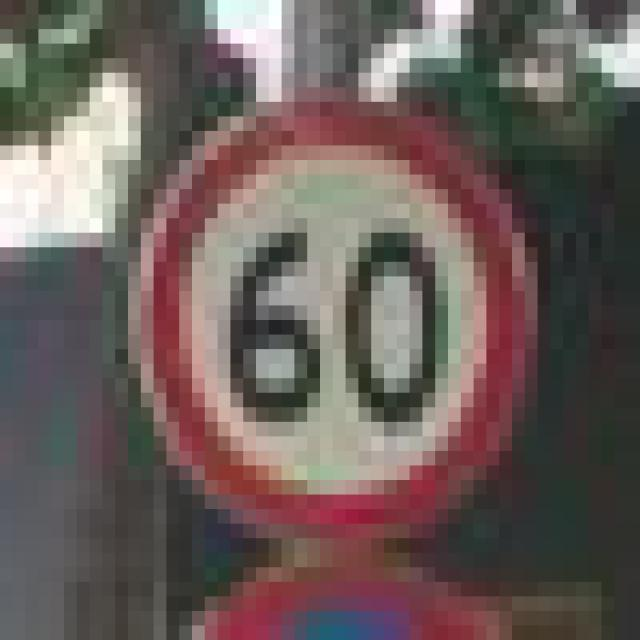SPEED_LIMIT_60: (115, 87, 525, 538)
